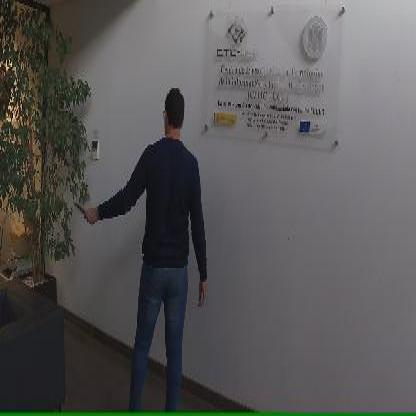knife: (72, 197, 94, 223)
